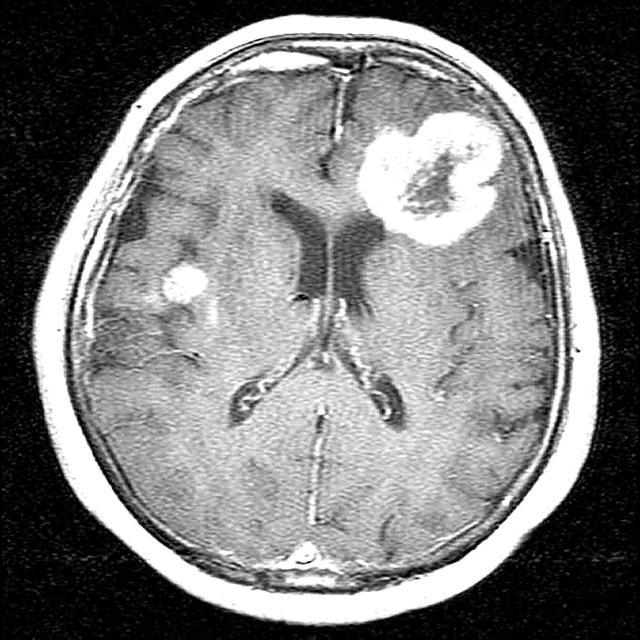brain tumor: (357, 114, 504, 245)
